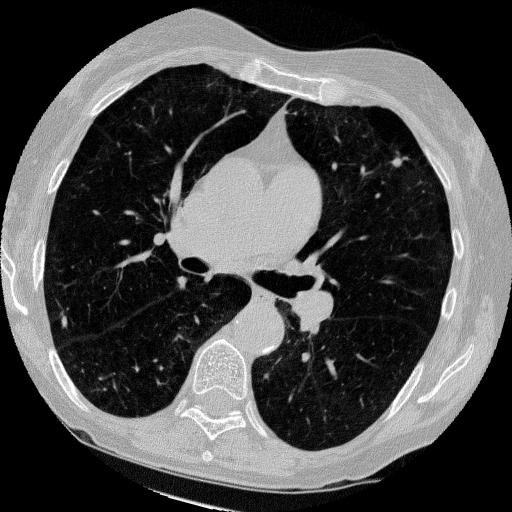nodule: (56, 313, 73, 330)
